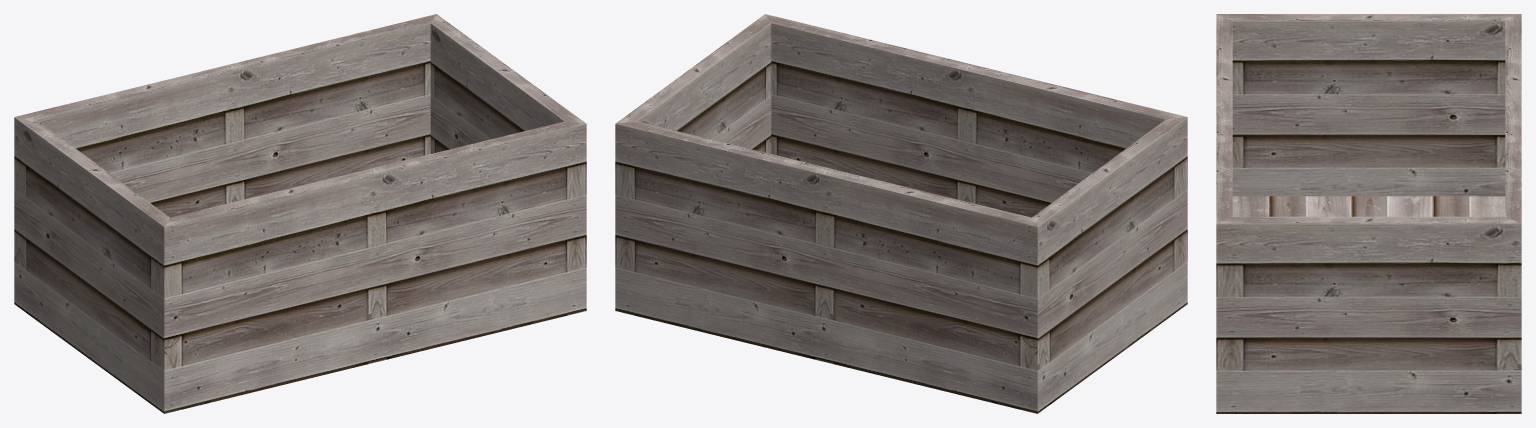
File: wood_box.fbx
The picture shows the model from 3 angles, left to right: view 1: azimuth 30°, elevation 25°; view 2: azimuth 150°, elevation 25°; view 3: azimuth 270°, elevation 25°; orthographic projection.
Visible parts, largest first — view 1: Mesh; view 2: Mesh; view 3: Mesh.
Part boxes in pixels (x1=…): Mesh: x1=14, y1=14, x2=586, y2=413; Mesh: x1=615, y1=14, x2=1187, y2=413; Mesh: x1=1216, y1=14, x2=1521, y2=413.
Size of the model in its own units: 91 by 38.5 by 56.
